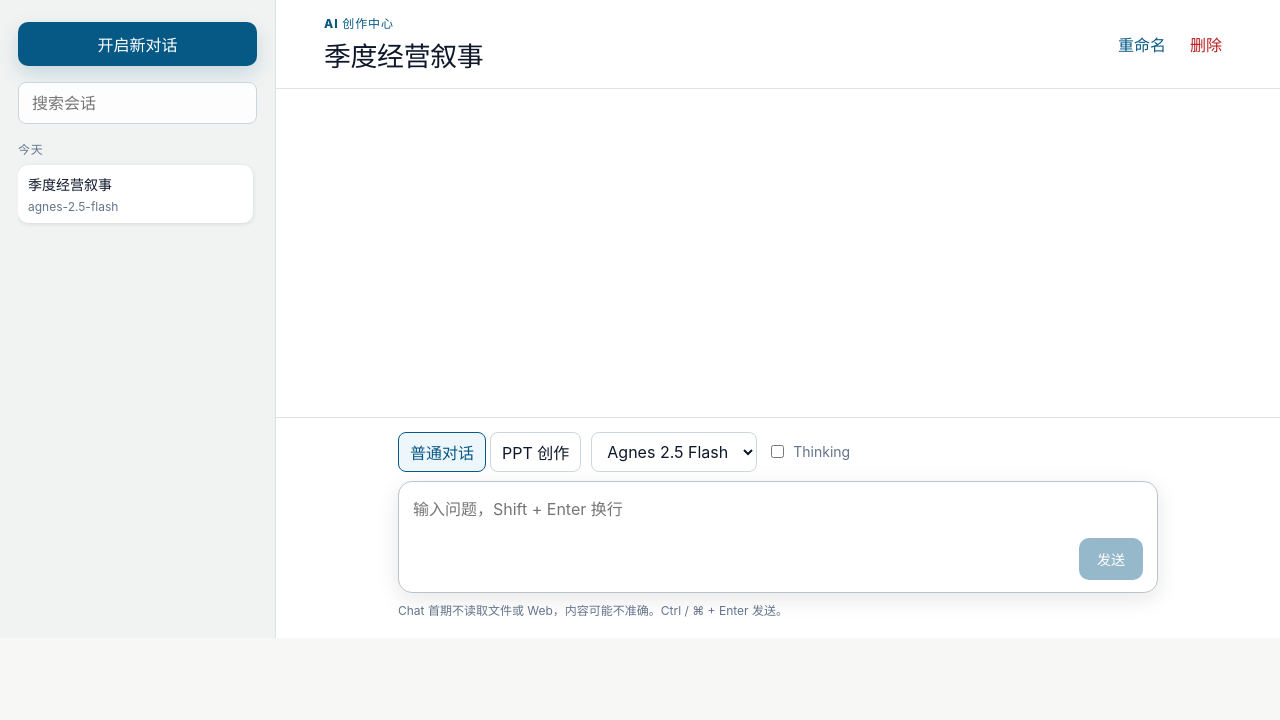
Test: AI creation chat studio › streams a message, renders the terminal reply, and shows high-risk warning
The width and height of the screenshot is (1280, 720).
Step 1. Type "请给出医学培训结构" into the text box with test id "chat-composer" → (741, 538), box [413,496,1069,580]
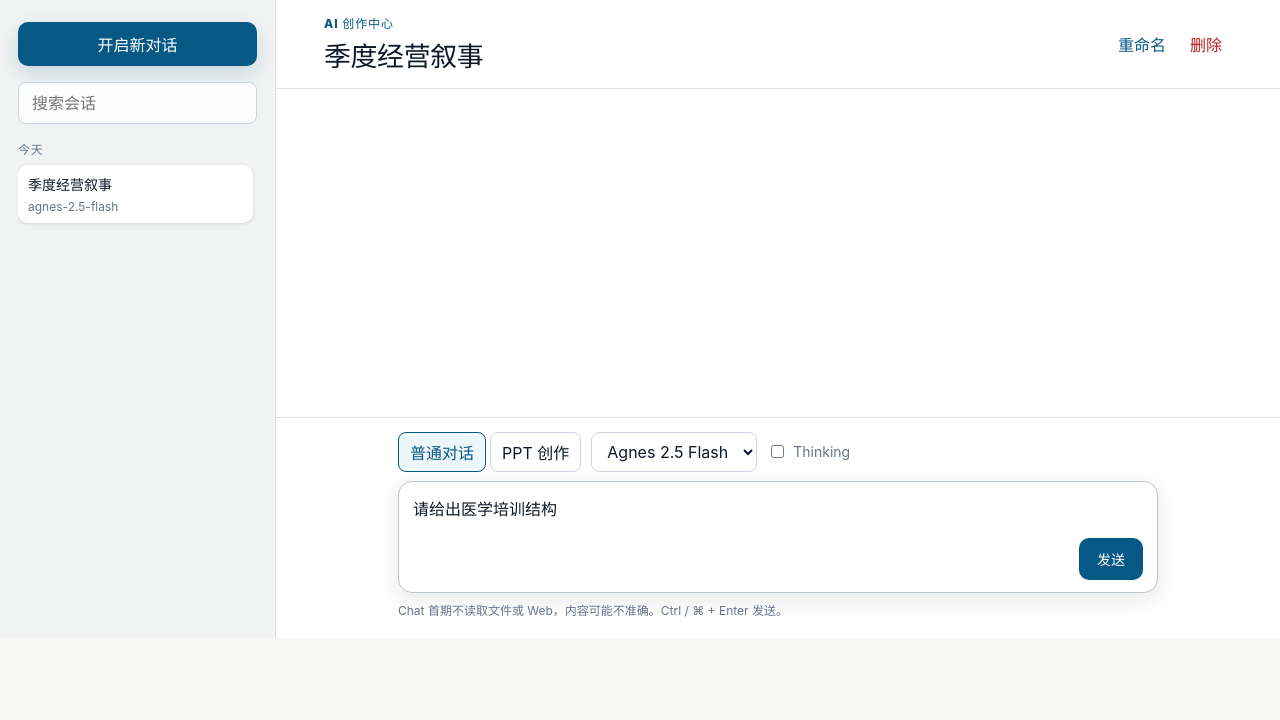
Step 2. Click the button with test id "chat-send" → (1111, 559), box [1079,538,1143,580]
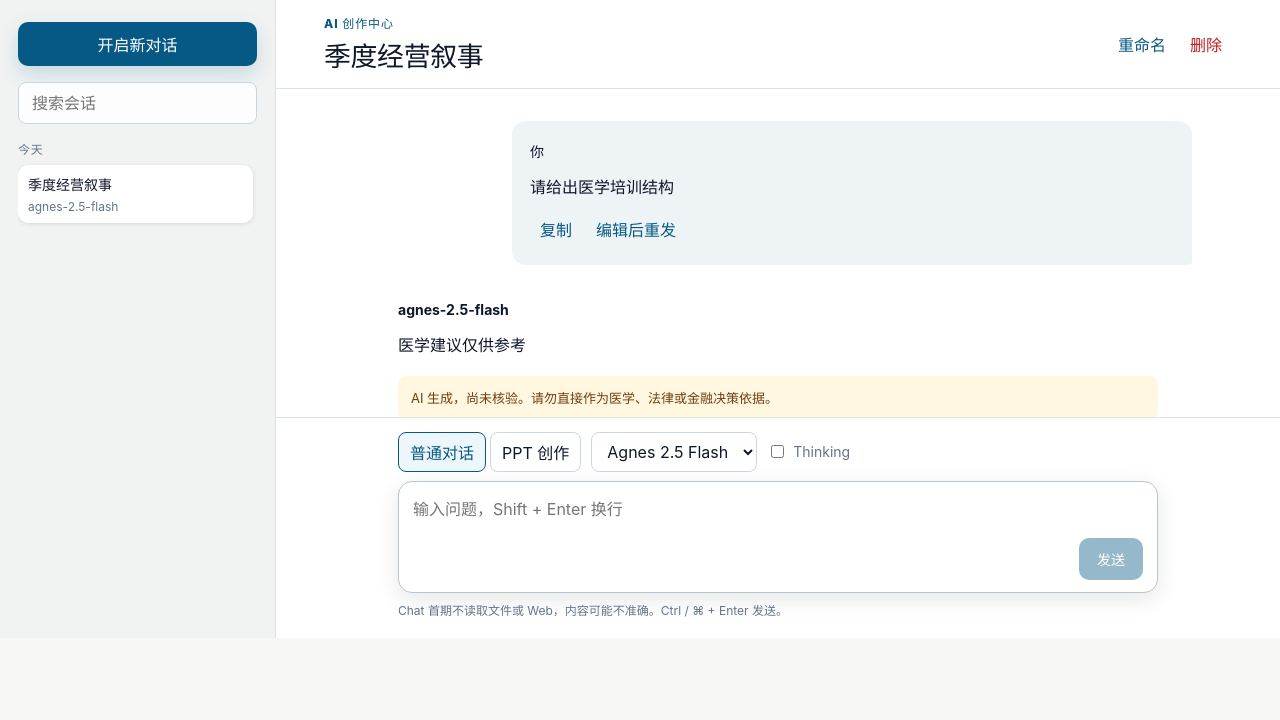
Expected: the text "医学建议仅供参考" is shown, [398,336,526,356]
Expected: the text with test id "unverified-warning" shows "AI 生成，尚未核验", [411,390,778,406]
